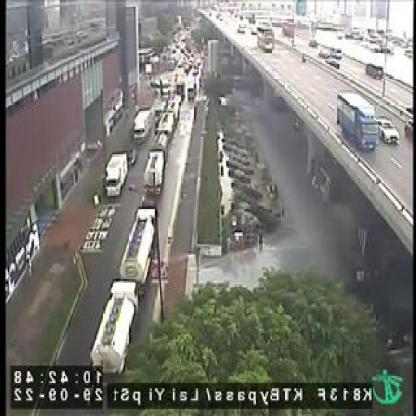Bus: (256, 21, 276, 54)
Car: (378, 118, 402, 144), (364, 61, 384, 80), (326, 57, 342, 71)
Truck: (90, 276, 140, 374), (118, 206, 164, 284), (336, 89, 380, 152), (151, 109, 182, 156), (100, 149, 130, 196), (142, 147, 169, 198), (133, 108, 152, 140)
